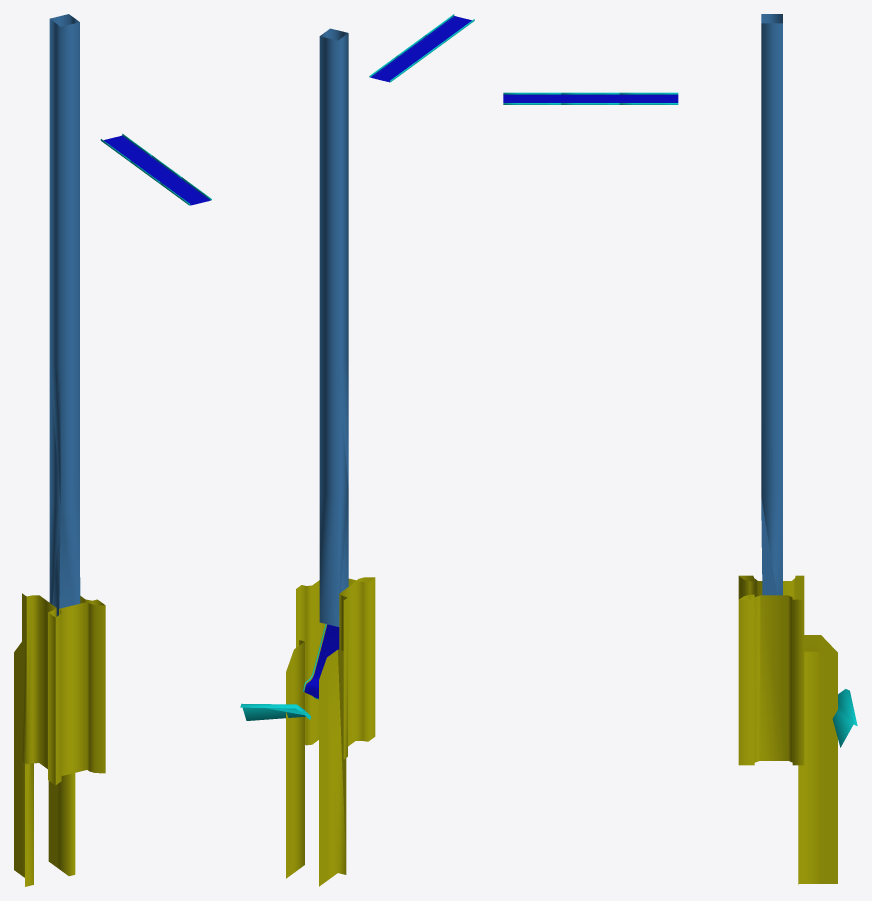
The model's file is STG0100_COLI_01.fbx.
3 views of the same model, side by side, from view 1: azimuth 30°, elevation 25°; view 2: azimuth 150°, elevation 25°; view 3: azimuth 270°, elevation 25° (orthographic). The views are drawn at different scales.
Parts seen in each view (by area): view 1: STG0100_COLI_01_02020000, STG0100_COLI_01_10000000, STG0100_COLI_01_01000200 (×3); view 2: STG0100_COLI_01_02020000, STG0100_COLI_01_10000000, STG0100_COLI_01_01000200 (×4), STG0100_COLI_01_02000000; view 3: STG0100_COLI_01_02020000, STG0100_COLI_01_10000000, STG0100_COLI_01_02000000.
Part boxes in pixels (x1,y1,x2,y2): STG0100_COLI_01_02020000: (14, 593, 105, 886); STG0100_COLI_01_10000000: (49, 14, 80, 616); STG0100_COLI_01_01000200 (×3): (103, 135, 210, 205); STG0100_COLI_01_02020000: (286, 577, 375, 886); STG0100_COLI_01_10000000: (319, 28, 348, 626); STG0100_COLI_01_01000200 (×4): (304, 16, 471, 698); STG0100_COLI_01_02000000: (240, 703, 310, 720); STG0100_COLI_01_02020000: (738, 575, 837, 884); STG0100_COLI_01_10000000: (761, 14, 782, 595); STG0100_COLI_01_02000000: (832, 689, 857, 747).
Size of the model in its own units: 653 by 6459 by 2422.
